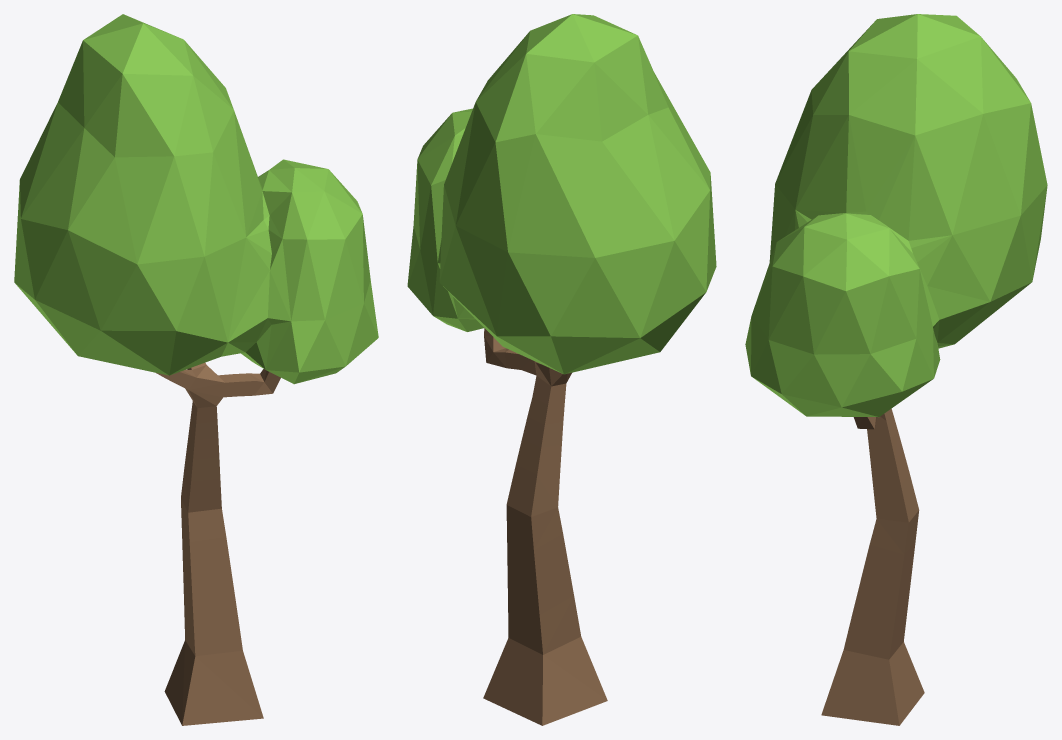
Rendered from tree05.fbx.
3 renders of one model, left to right at view 1: azimuth 30°, elevation 25°; view 2: azimuth 150°, elevation 25°; view 3: azimuth 270°, elevation 25°, orthographic. The views are drawn at different scales.
Visible parts, largest first — view 1: tree05_LOD0; view 2: tree05_LOD0; view 3: tree05_LOD0.
Boxes of the visible parts, x1,y1,x2,y2 form: tree05_LOD0: (14,14,378,725); tree05_LOD0: (407,14,716,725); tree05_LOD0: (745,14,1047,725).
Size of what is drawn, in the model's own units: 250 by 545 by 224.
